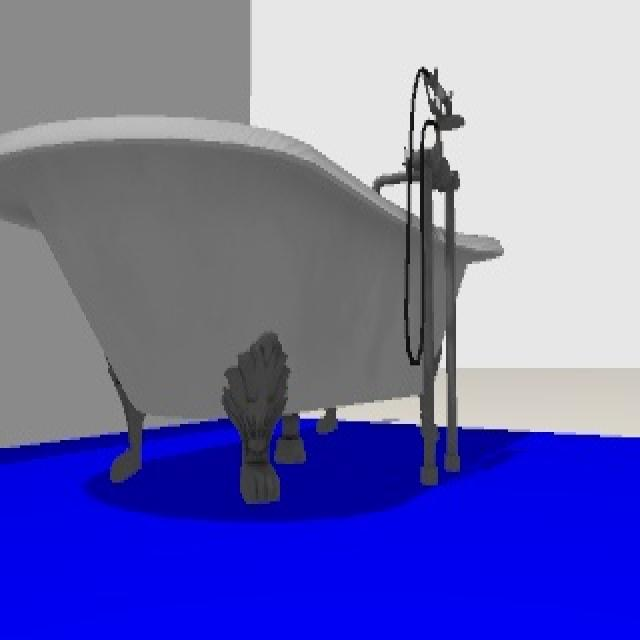bathtub: (2, 66, 500, 502)
